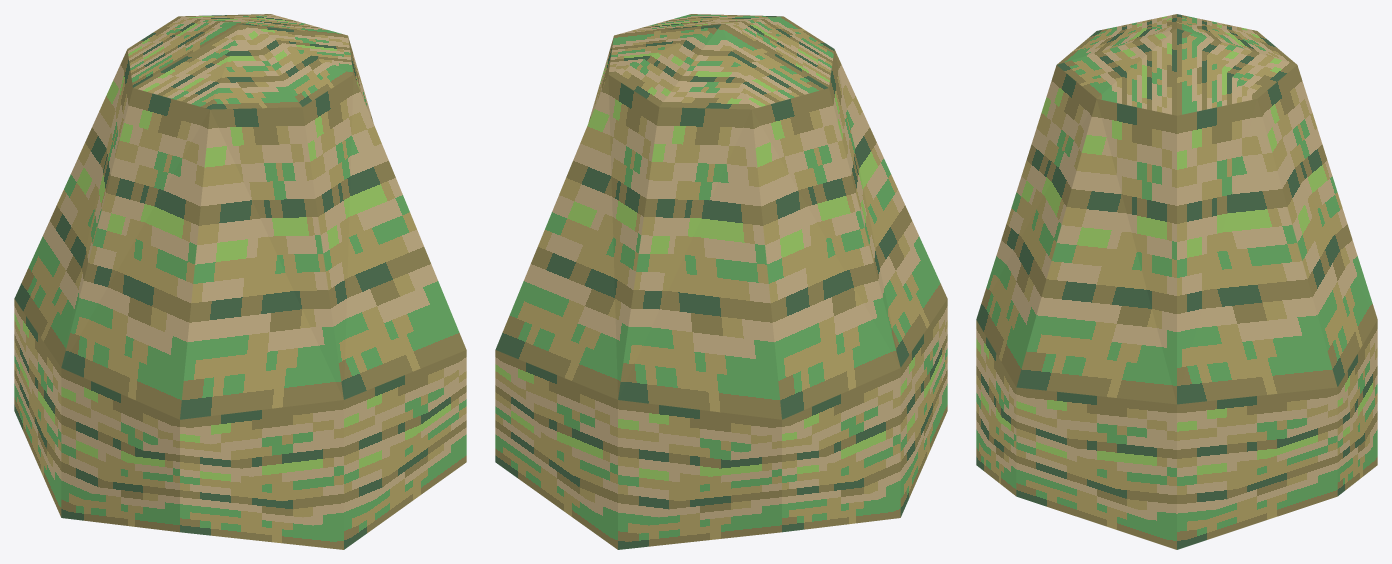
Rendered from Pot.gltf.
The picture shows the model from 3 angles, left to right: view 1: azimuth 30°, elevation 25°; view 2: azimuth 150°, elevation 25°; view 3: azimuth 270°, elevation 25°; orthographic projection. The views are drawn at different scales.
Bounding box in the file's own units: 2.5 × 3.25 × 2.5.
1 material, 1 textured.
